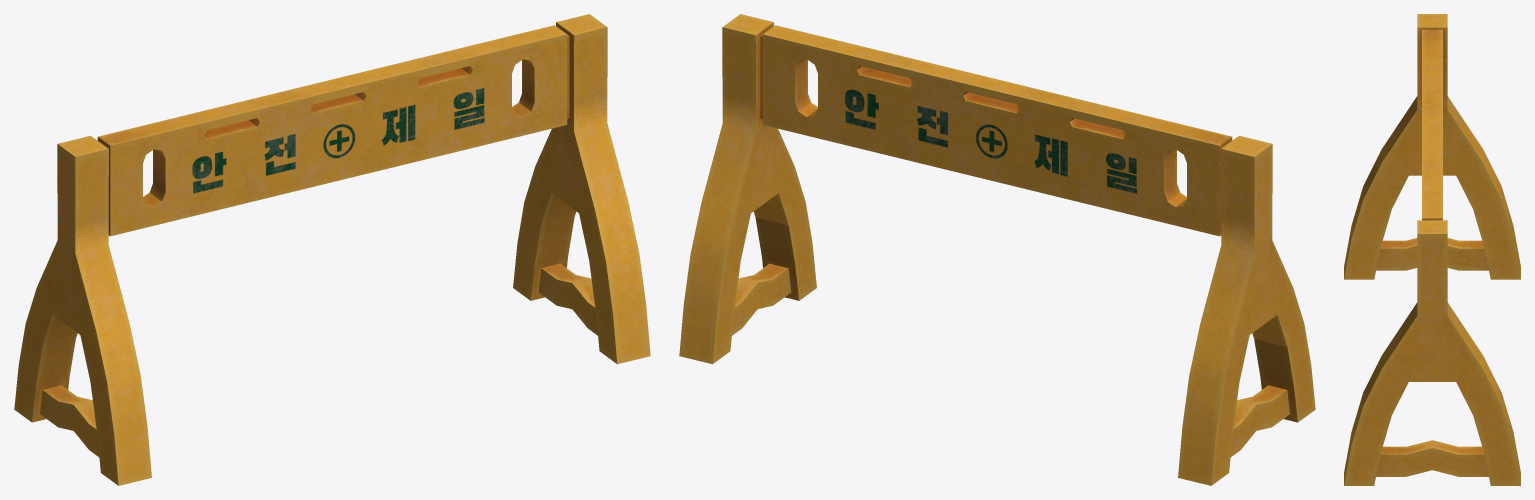
The model's file is eq_Safe_Fence.fbx.
3 renders of one model, left to right at view 1: azimuth 30°, elevation 25°; view 2: azimuth 150°, elevation 25°; view 3: azimuth 270°, elevation 25°, orthographic. The views are drawn at different scales.
Parts seen in each view (by area): view 1: Fence; view 2: Fence; view 3: Fence.
Boxes of the visible parts, left/top/right/bottom form: Fence: left=14, top=14, right=650, bottom=485; Fence: left=679, top=14, right=1315, bottom=485; Fence: left=1344, top=14, right=1520, bottom=485.
Size of the model in its own units: 1.73 by 0.9261 by 0.5888.
